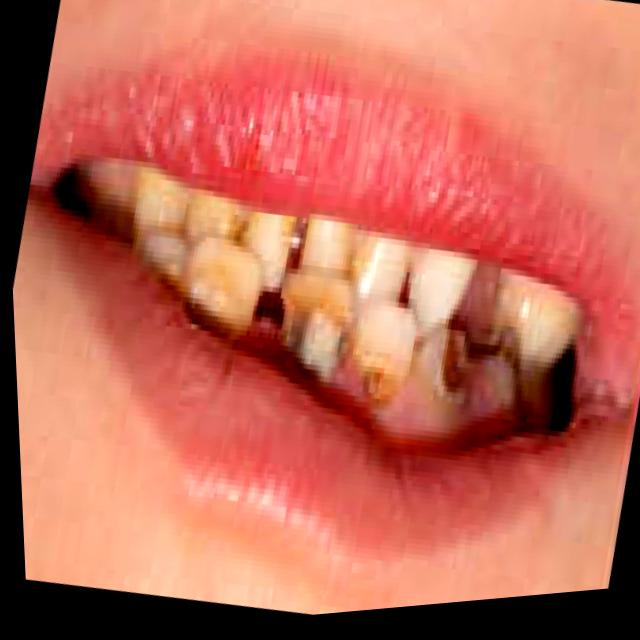cariess: (415, 328, 517, 420), (282, 279, 353, 388)
